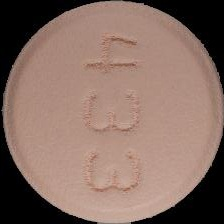60429-946: (0, 0, 224, 224)
